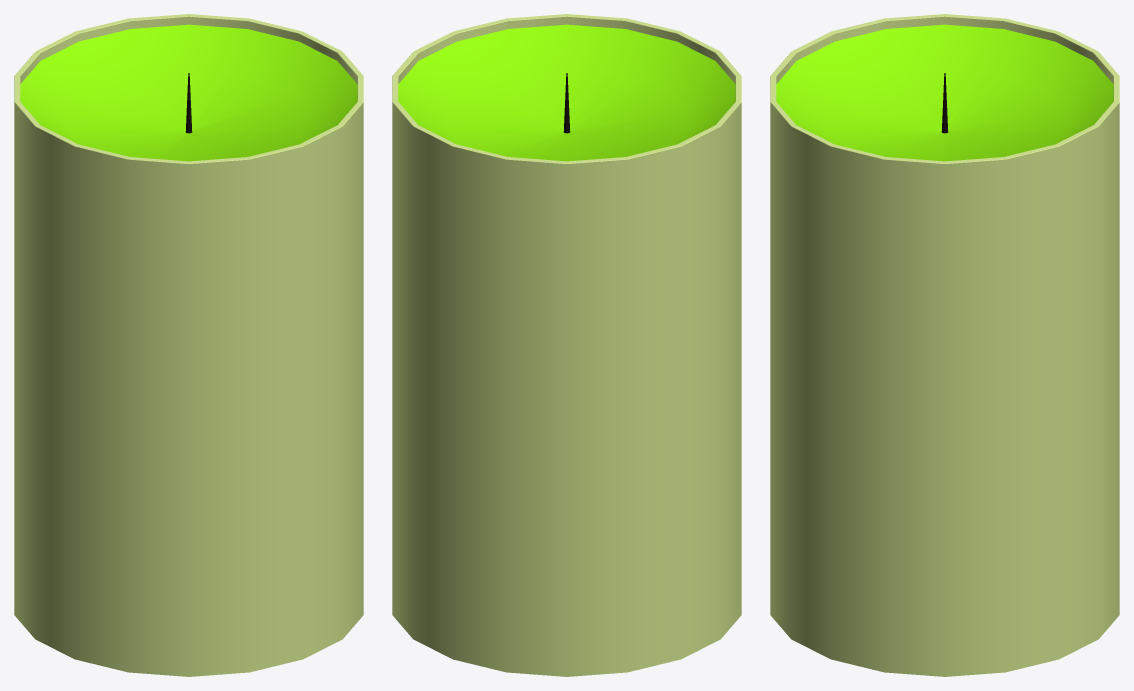
File: swieczka01.FBX
3 renders of one model, left to right at view 1: azimuth 30°, elevation 25°; view 2: azimuth 150°, elevation 25°; view 3: azimuth 270°, elevation 25°, orthographic.
Parts seen in each view (by area): view 1: Cylinder001; view 2: Cylinder001; view 3: Cylinder001.
Boxes of the visible parts, bbox=[...] form: Cylinder001: bbox=[14, 14, 363, 676]; Cylinder001: bbox=[392, 14, 741, 676]; Cylinder001: bbox=[770, 14, 1119, 676].
Bounding box in the file's own units: 10 × 16.44 × 9.85.
